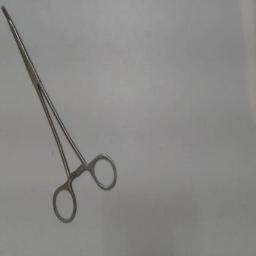Lahey Forceps: (0, 3, 122, 227)
